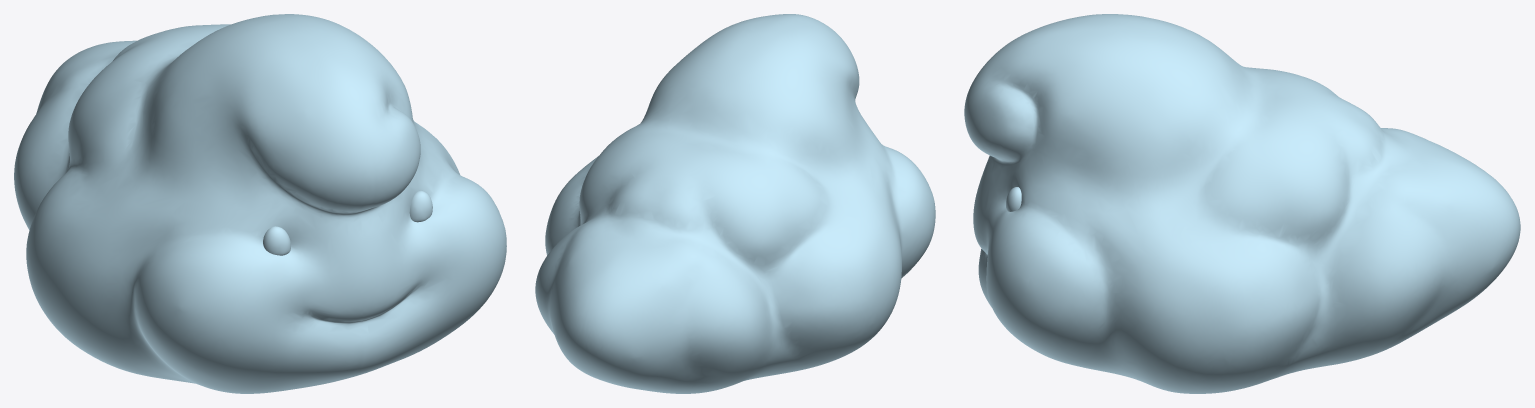
File: Sky.glb
3 views of the same model, side by side, from view 1: azimuth 30°, elevation 25°; view 2: azimuth 150°, elevation 25°; view 3: azimuth 270°, elevation 25° (orthographic). The views are drawn at different scales.
Parts seen in each view (by area): view 1: Object_2; view 2: Object_2; view 3: Object_2.
Boxes of the visible parts, <box> form: Object_2: <box>14,14,506,393</box>; Object_2: <box>535,14,935,393</box>; Object_2: <box>964,14,1520,393</box>.
Bounding box in the file's own units: 1.87 × 1.63 × 2.46.
